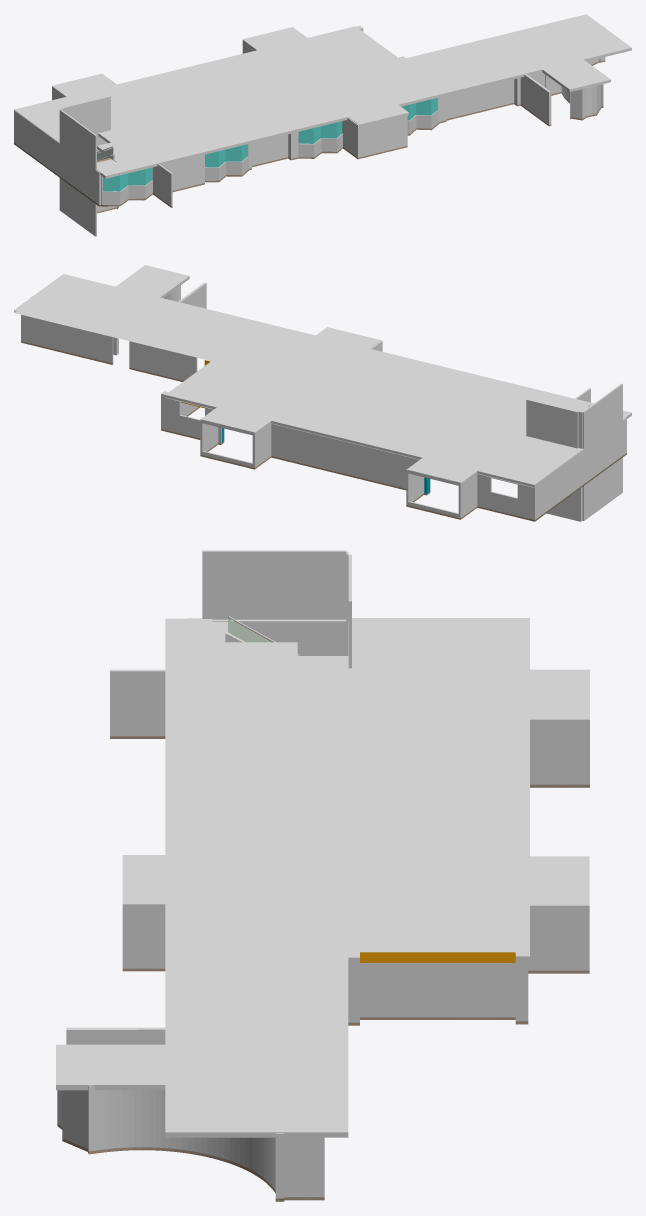
The model's file is Piso1Edificio7.fbx.
3 views of the same model, one above another, from view 1: azimuth 30°, elevation 25°; view 2: azimuth 150°, elevation 25°; view 3: azimuth 270°, elevation 25° (orthographic). The views are drawn at different scales.
Visible parts, largest first — view 1: Techo, Estructura, VentanasTriangulares, Gradas; view 2: Techo, Estructura; view 3: Techo, Estructura, Gradas.
Boxes of the visible parts, x1,y1,x2,y2 form: Techo: [14, 14, 631, 178]; Estructura: [14, 26, 605, 236]; VentanasTriangulares: [103, 98, 436, 191]; Gradas: [97, 146, 118, 213]; Techo: [14, 265, 631, 487]; Estructura: [21, 271, 626, 521]; Techo: [56, 618, 589, 1137]; Estructura: [57, 550, 589, 1201]; Gradas: [212, 616, 299, 655].
Size of the model in its own units: 5692 by 1038 by 2493.
